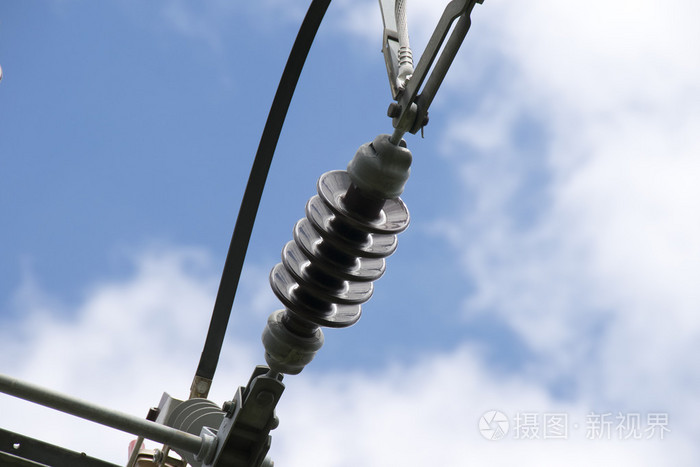insulator: (269, 170, 411, 328)
